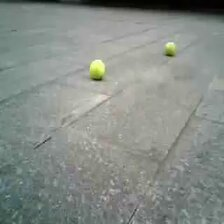tennis: (90, 59, 104, 78), (165, 42, 175, 54)
